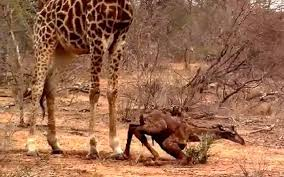Jirafa: (158, 100, 255, 164)
